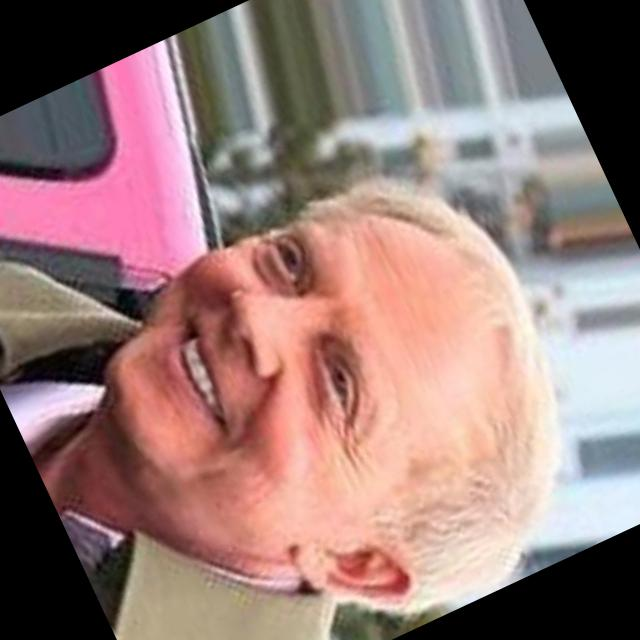bareface: (76, 153, 597, 640)
